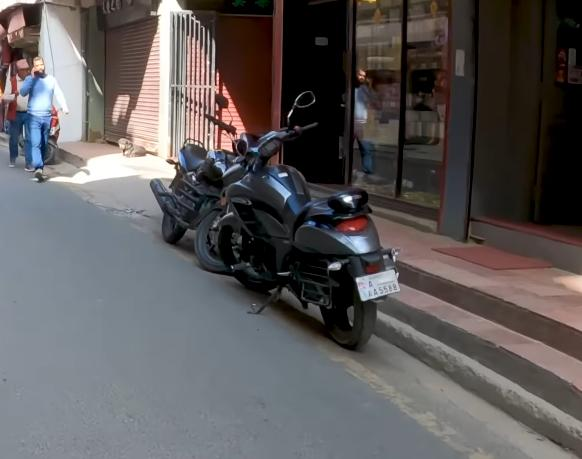bike: (213, 106, 406, 347)
